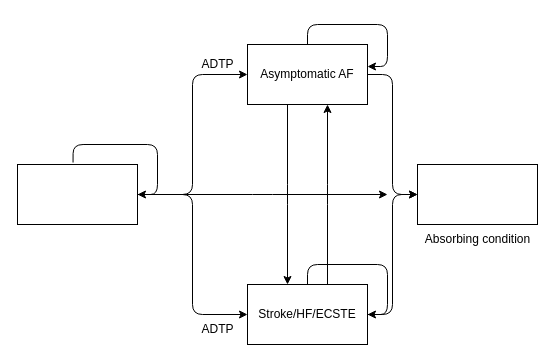
Image size: 560x362. Some labels were removed from this diagram. Each missing label, with the centre of its shape:
Death: the point at 477,194
Heath: the point at 77,194
